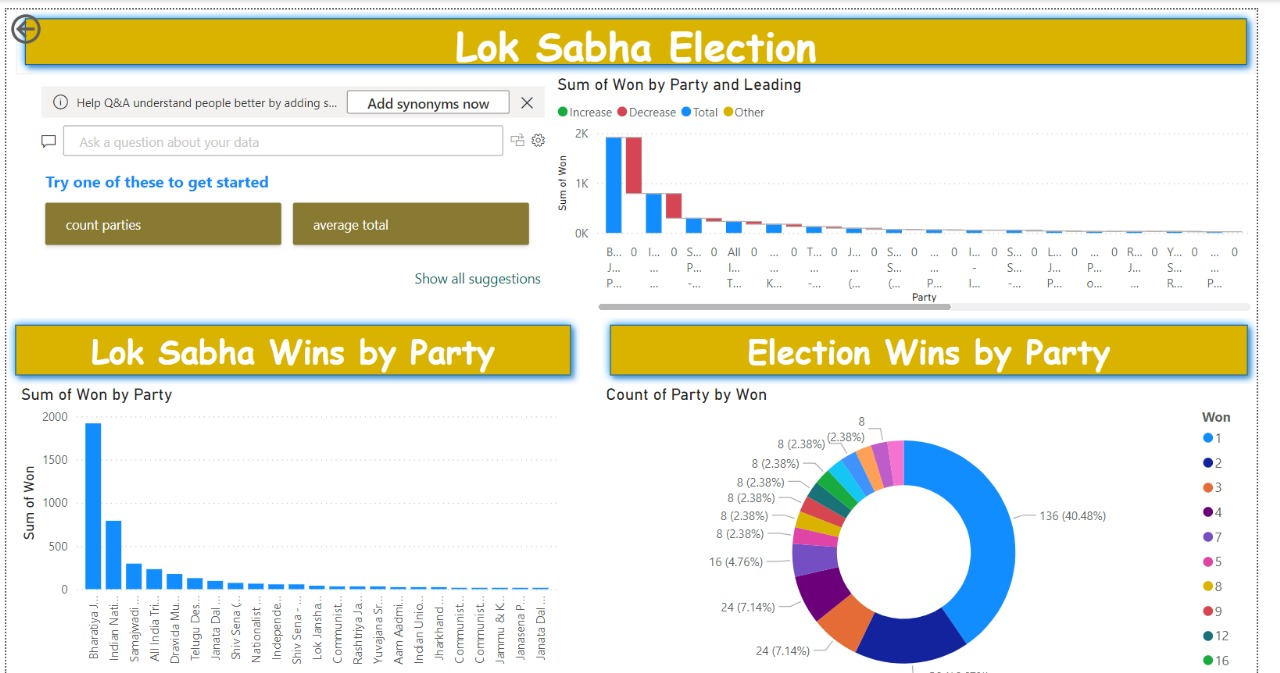

What the dashboard file says about the page in this screenshot:
{"tool":"powerbi","page":{"name":"Page 1","canvas":[1280,720],"ordinal":0},"visuals":[{"type":"shape","box":[10.2,0,1268.6,65.6],"z":0},{"type":"shape","box":[0,314.3,586.8,70.1],"z":1000},{"type":"shape","box":[609.4,314.3,670.5,70.1],"z":2000},{"type":"qnaVisual","box":[27.4,65.9,532.4,248.4],"z":3000},{"type":"lineStackedColumnComboChart","fields":{"Category":["table.Party"],"Y":["Sum(table.Won)"]},"box":[9.6,384.2,559.9,325.2],"z":4000},{"type":"actionButton","box":[0,0,100,40],"z":5000},{"type":"waterfallChart","fields":{"Category":["table.Party"],"Y":["Sum(table.Won)"],"Breakdown":["table.Leading"]},"box":[559,66,720,248],"z":6000},{"type":"donutChart","fields":{"Category":["table.Won"],"Y":["CountNonNull(table.Party)"]},"box":[609,384,670,325],"z":7000}]}

Visuals, with their boxes on the page's 1280x720 design canvas (x1, y1, x2, y2). These are canvas units, not pixel positions in the 1280x673 screenshot, which may show the page scaled, cropped or inside an application window:
shape: (10, 0, 1279, 66)
shape: (0, 314, 587, 384)
shape: (609, 314, 1280, 384)
qnaVisual: (27, 66, 560, 314)
lineStackedColumnComboChart - table.Party x Sum(table.Won): (10, 384, 570, 709)
actionButton: (0, 0, 100, 40)
waterfallChart - table.Party x Sum(table.Won): (559, 66, 1279, 314)
donutChart - table.Won x CountNonNull(table.Party): (609, 384, 1279, 709)
